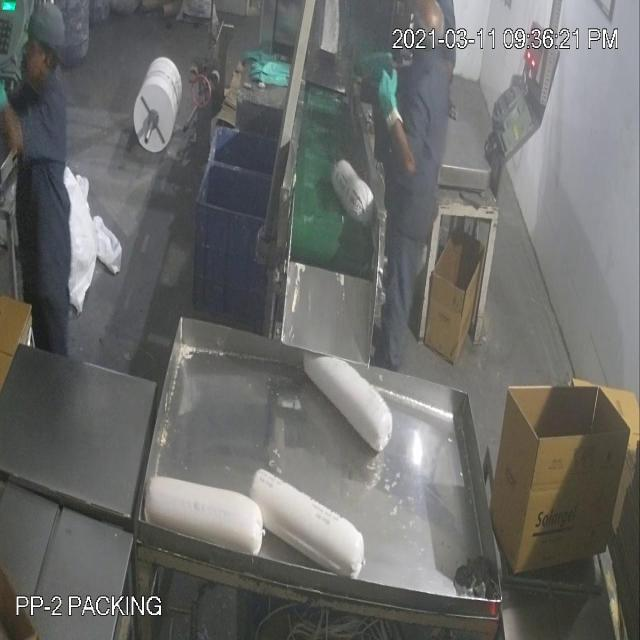gloves: (377, 55, 405, 132)
